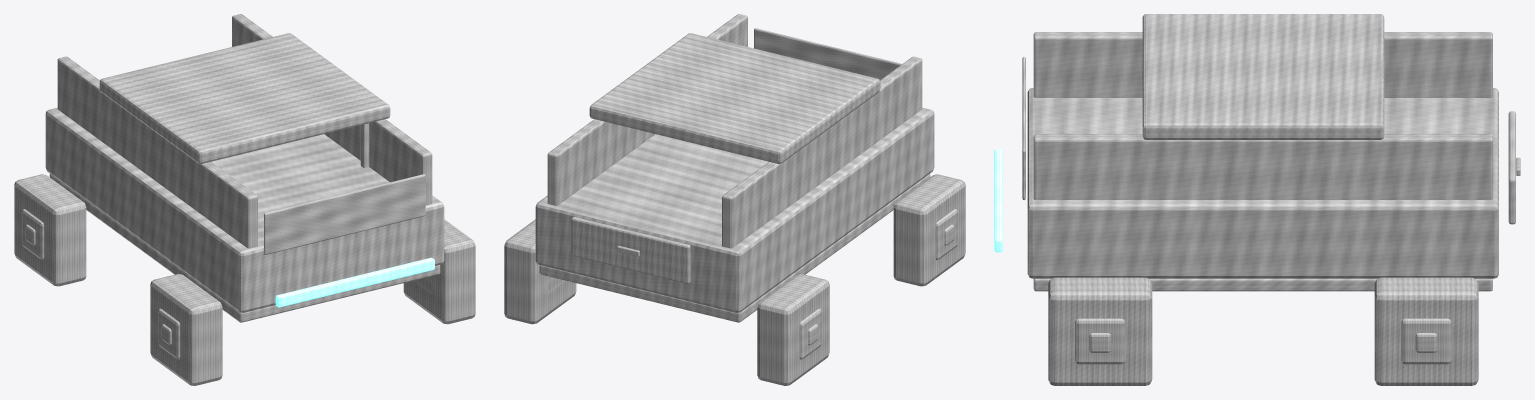
Rendered from cyber_wagon_variant_d.glb.
3 renders of one model, left to right at view 1: azimuth 30°, elevation 25°; view 2: azimuth 150°, elevation 25°; view 3: azimuth 270°, elevation 25°, orthographic. The views are drawn at different scales.
Parts seen in each view (by area): view 1: Open chassis shell, Upper cross roof, Structural side beam, Front screen, Square wheel.013, Square wheel.012, Structural side beam.001, Square wheel.014, Lower chassis skid plate.003, Front light bar.003, Square wheel hub.013, Square wheel hub.012 (+1 smaller); view 2: Open chassis shell, Upper cross roof, Structural side beam, Square wheel.012, Square wheel.013, Structural side beam.001, Rear cargo hatch.003, Square wheel.015, Lower chassis skid plate.003, Front screen, Square wheel hub.012, Square wheel hub.013; view 3: Open chassis shell, Upper cross roof, Structural side beam.001, Structural side beam, Square wheel.015, Square wheel.014, Lower chassis skid plate.003, Square wheel hub.015, Square wheel hub.014, Front light bar.003, Rear cargo hatch.003, Front screen (+1 smaller).
Boxes of the visible parts, x1,y1,x2,y2 form: Open chassis shell: (45,107,444,312); Upper cross roof: (99,33,390,163); Structural side beam: (57,56,257,248); Front screen: (264,174,425,254); Square wheel.013: (14,174,86,286); Square wheel.012: (150,274,222,385); Structural side beam.001: (232,14,432,205); Square wheel.014: (403,219,475,324); Lower chassis skid plate.003: (49,174,440,322); Front light bar.003: (275,257,434,307); Square wheel hub.013: (22,209,44,259); Square wheel hub.012: (158,308,180,359); Open chassis shell: (535,107,934,312); Upper cross roof: (589,33,880,163); Structural side beam: (722,56,922,248); Square wheel.012: (893,174,965,286); Square wheel.013: (757,274,829,385); Structural side beam.001: (547,14,747,205); Rear cargo hatch.003: (571,217,690,283); Square wheel.015: (504,219,576,324); Lower chassis skid plate.003: (539,174,930,322); Front screen: (754,28,901,79); Square wheel hub.012: (935,209,957,259); Square wheel hub.013: (799,308,821,359); Open chassis shell: (1027,88,1498,278); Upper cross roof: (1142,14,1384,139); Structural side beam.001: (1033,134,1492,199); Structural side beam: (1033,32,1492,97); Square wheel.015: (1374,277,1478,385); Square wheel.014: (1048,277,1152,385); Lower chassis skid plate.003: (1033,278,1492,291); Square wheel hub.015: (1401,318,1451,364); Square wheel hub.014: (1075,318,1125,364); Front light bar.003: (994,149,1002,252); Rear cargo hatch.003: (1508,111,1515,224); Front screen: (1022,57,1025,199).
Size of what is drawn, in the model's own units: 3.39 by 2.15 by 4.35.
Materials: 7 (7 with a texture image).
